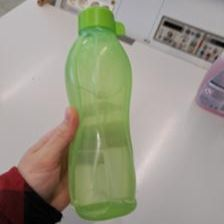bottle: (66, 5, 136, 220)
